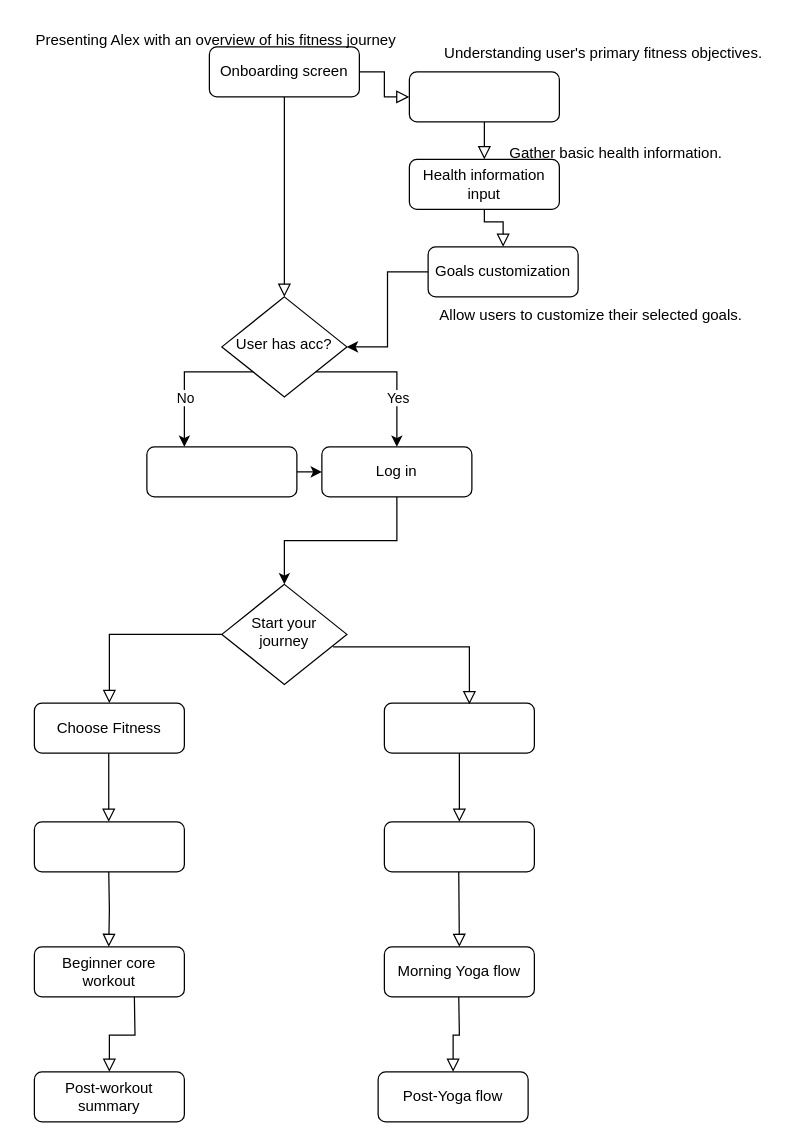
The diagram is 799 pixels wide and 1144 high, and some of its shapes have lost their labels. The shapes that lost their labels are listed below. From the top down, each one's box as (x1, y1, x2, y2) in pixels, then its label:
(408, 71, 559, 122): Fitness goals selection
(146, 446, 297, 497): Create acc
(383, 702, 534, 753): Choose Yoga
(33, 821, 184, 872): Select Workout
(383, 821, 534, 872): Select your flow
